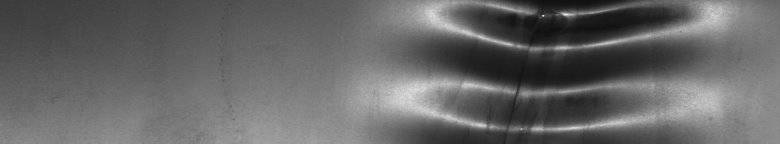ke: (412, 4, 710, 136)
